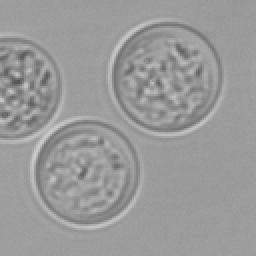picoshell: (106, 18, 224, 136), (30, 116, 142, 228), (0, 32, 64, 142)
